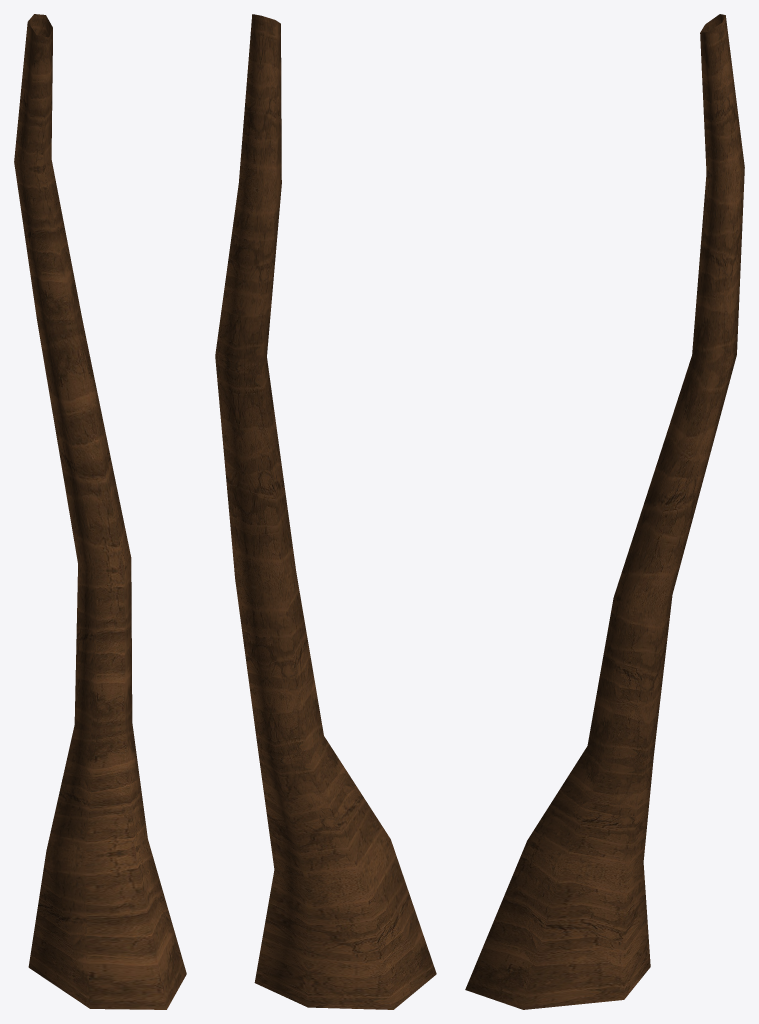
File: stump.fbx
3 renders of one model, left to right at view 1: azimuth 30°, elevation 25°; view 2: azimuth 150°, elevation 25°; view 3: azimuth 270°, elevation 25°, orthographic. The views are drawn at different scales.
Visible parts, largest first — view 1: mesh1_mesh1.004; view 2: mesh1_mesh1.004; view 3: mesh1_mesh1.004.
Boxes of the visible parts, x1,y1,x2,y2 form: mesh1_mesh1.004: [14, 14, 186, 1009]; mesh1_mesh1.004: [215, 14, 436, 1009]; mesh1_mesh1.004: [465, 14, 744, 1009].
Bounding box in the file's own units: 96.11 × 704 × 184.
